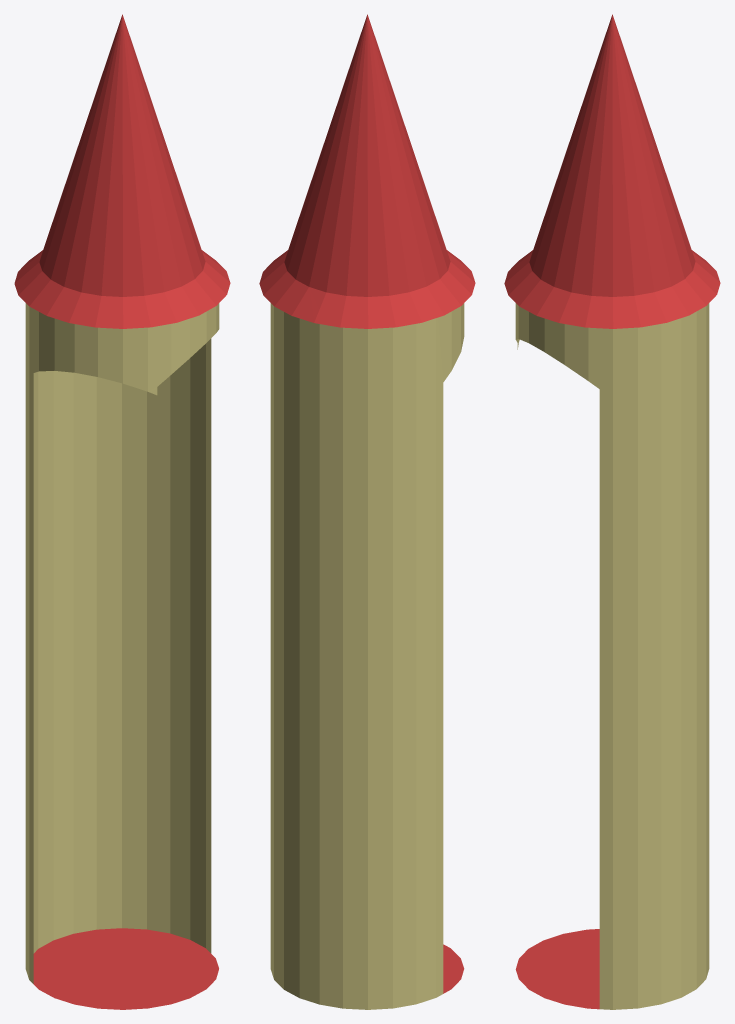
3 views of the same model, side by side, from view 1: azimuth 30°, elevation 25°; view 2: azimuth 150°, elevation 25°; view 3: azimuth 270°, elevation 25° (orthographic).
Bounding box in the file's own units: 4.83 × 4.83 × 23.57.
